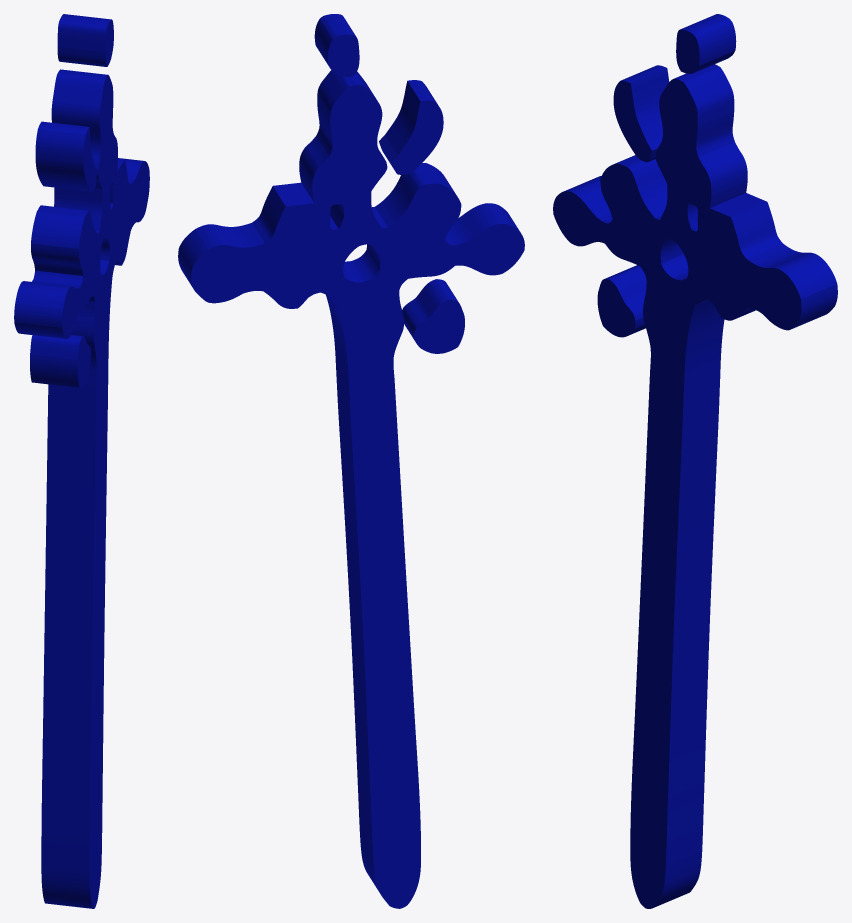
File: KP-wand.gltf
The picture shows the model from 3 angles, left to right: view 1: azimuth 30°, elevation 25°; view 2: azimuth 150°, elevation 25°; view 3: azimuth 270°, elevation 25°; orthographic projection. The views are drawn at different scales.
Size of the model in its own units: 10.52 by 36.51 by 10.52.
